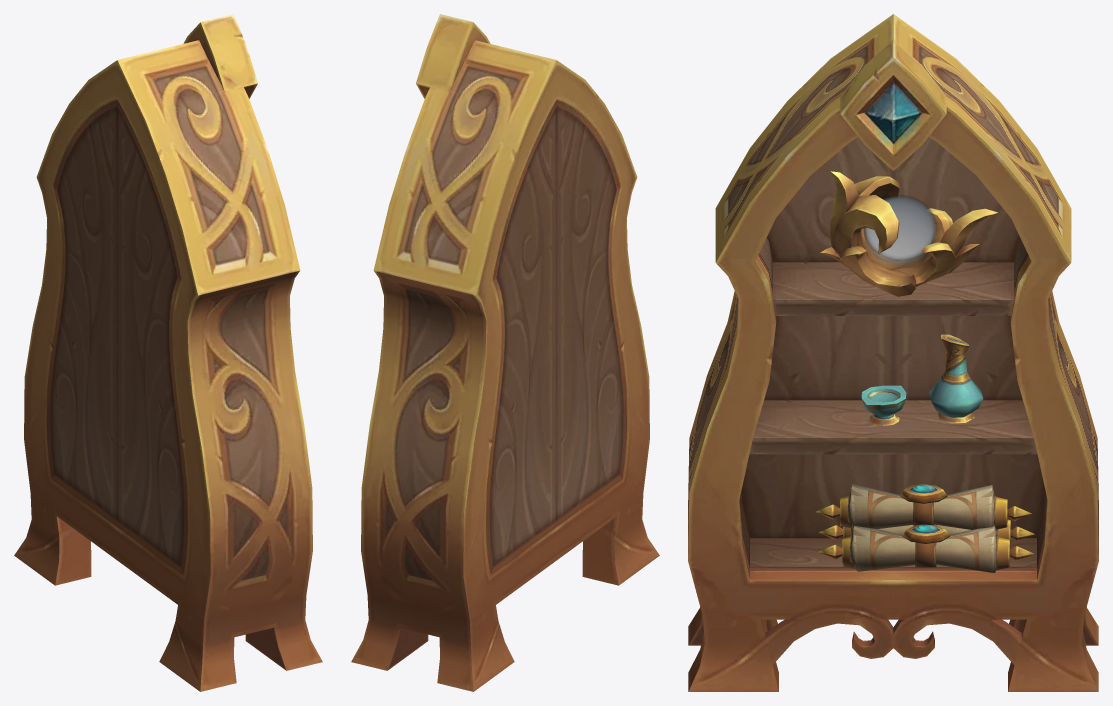
The picture shows the model from 3 angles, left to right: view 1: azimuth 30°, elevation 25°; view 2: azimuth 150°, elevation 25°; view 3: azimuth 270°, elevation 25°; orthographic projection. The views are drawn at different scales.
Size of the model in its own units: 1 by 4.02 by 2.35.
7 materials, 7 textured.
